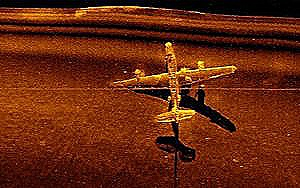aircraft: (111, 42, 237, 125)
